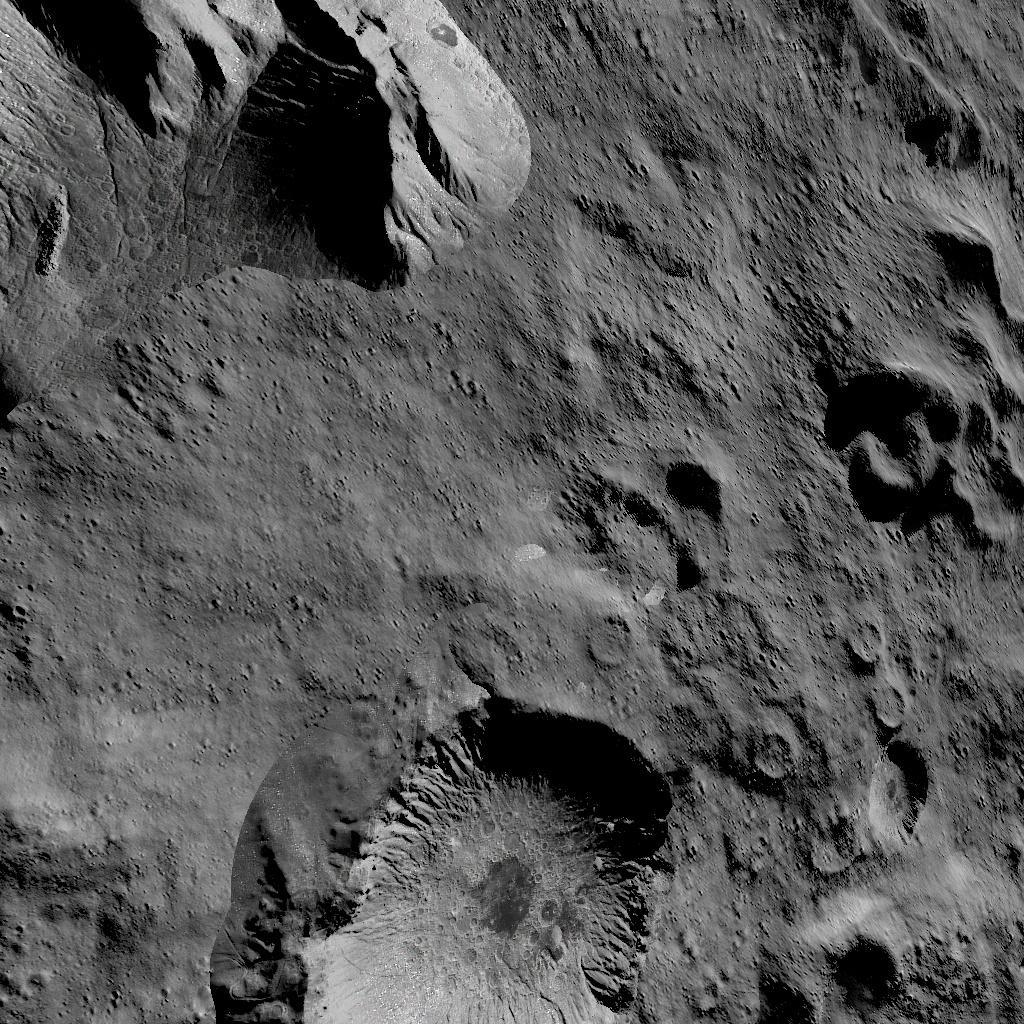Boulders: (3, 0, 536, 366)
Crater: (185, 691, 676, 1024), (783, 356, 1024, 540), (568, 450, 725, 602), (824, 610, 922, 850), (756, 896, 904, 1024), (939, 670, 1024, 790), (739, 722, 797, 784), (574, 612, 632, 668)
Plan surface: (3, 374, 540, 680), (553, 0, 770, 436), (3, 692, 171, 1024)
